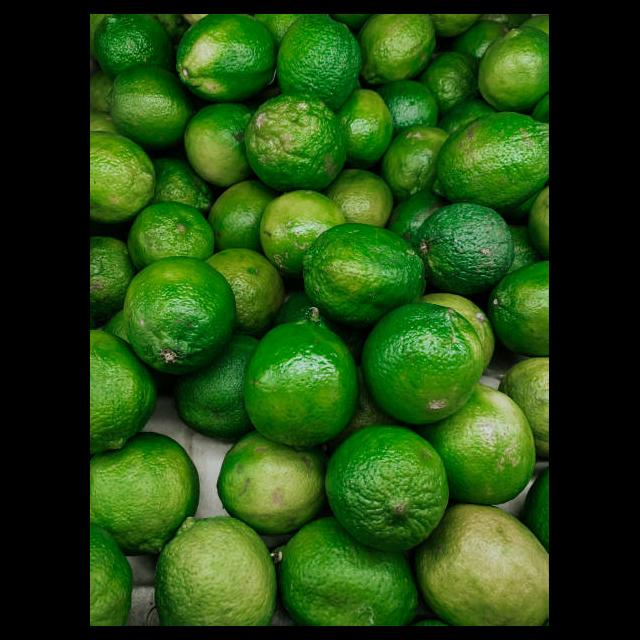lime: (244, 319, 360, 453), (242, 95, 348, 195)
